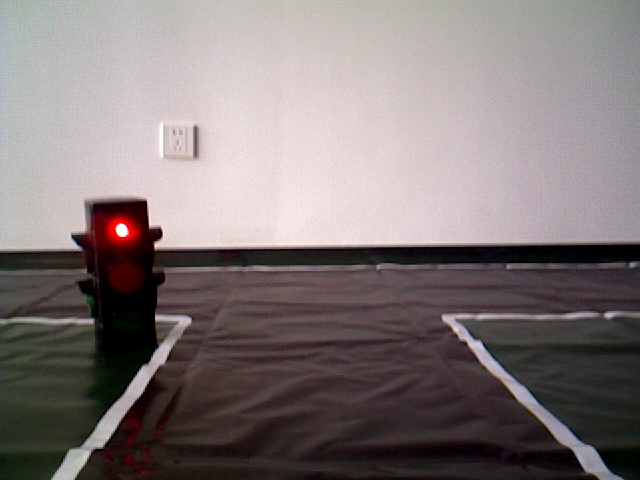red: (78, 204, 155, 345)
